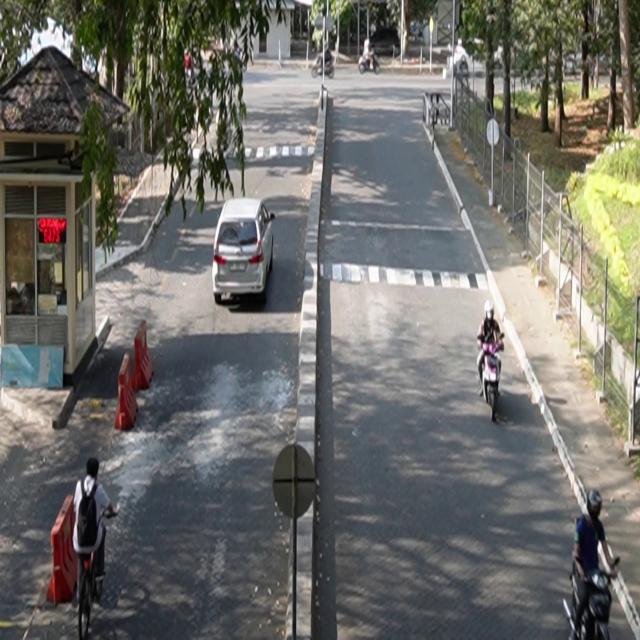car: (213, 198, 276, 305)
